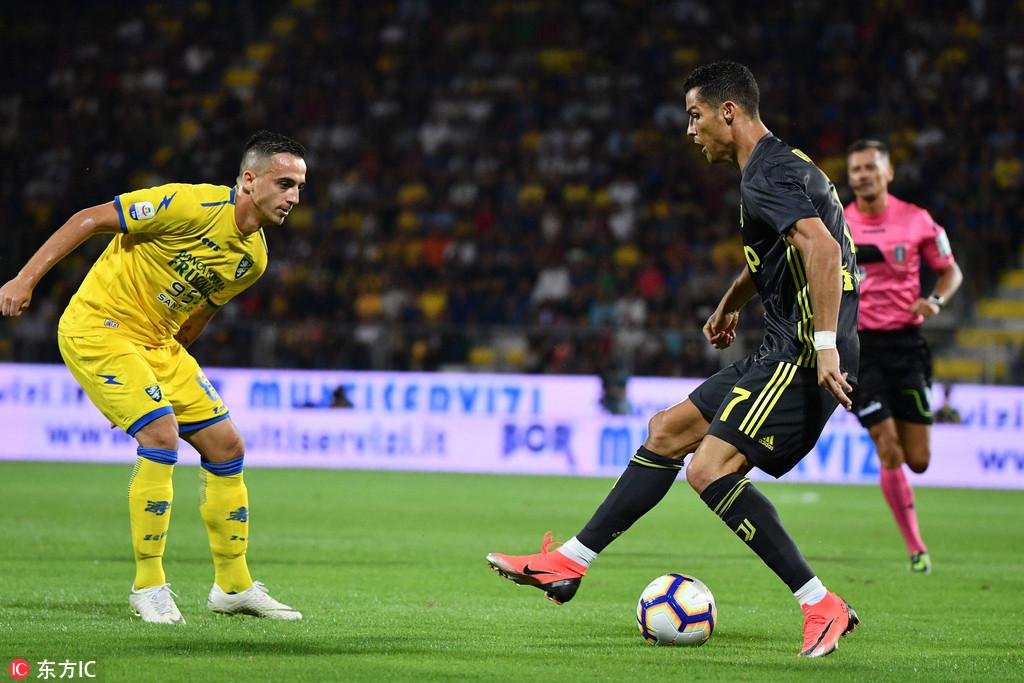ball: (635, 571, 719, 654)
